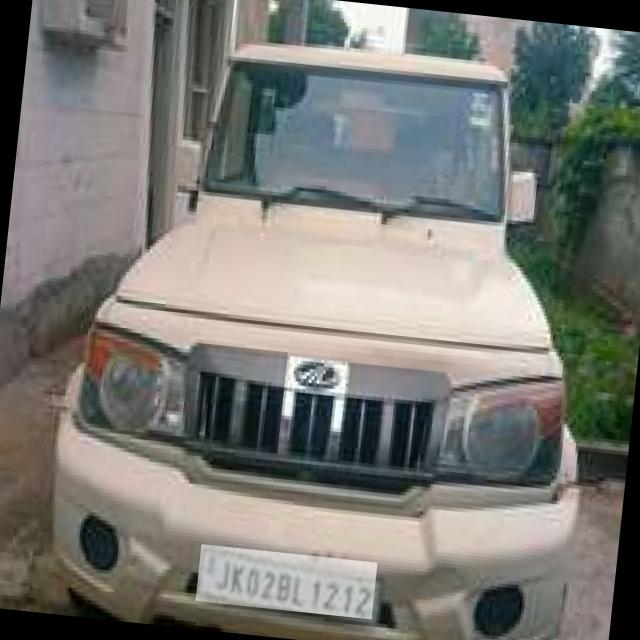Plate: (196, 545, 378, 620)
